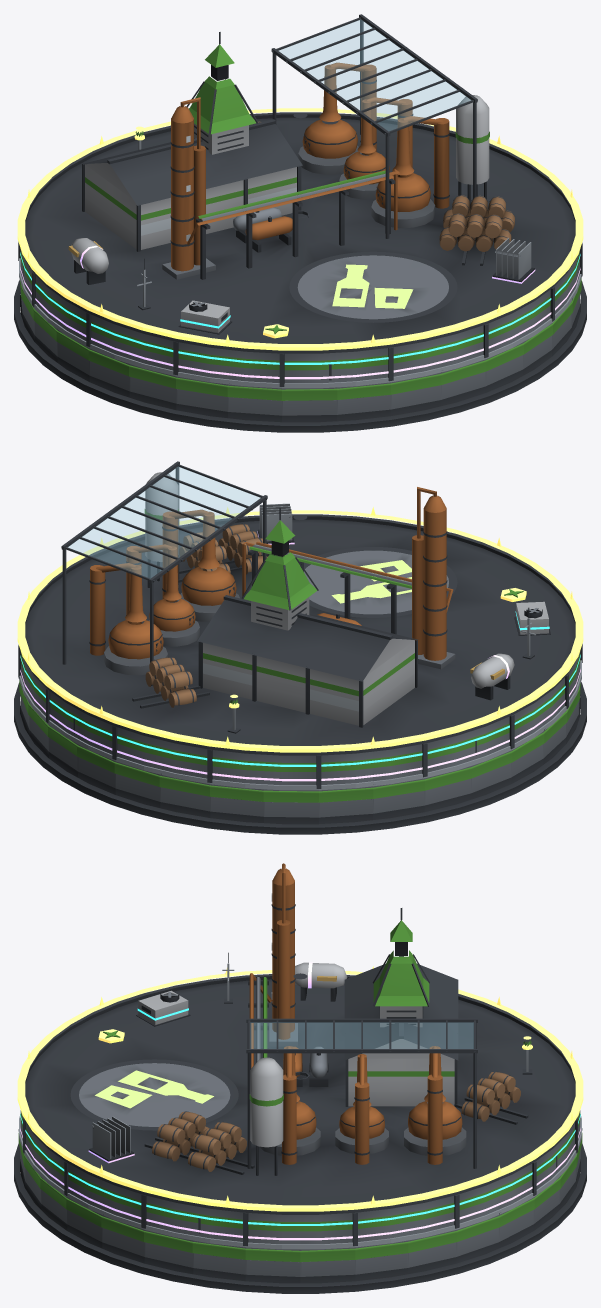
Rendered from distillery_l_far.glb.
3 views of the same model, one above another, from view 1: azimuth 30°, elevation 25°; view 2: azimuth 150°, elevation 25°; view 3: azimuth 270°, elevation 25° (orthographic).
Parts seen in each view (by area): view 1: Roof, Base, L5, L4, L2, L3; view 2: Roof, Base, L5, L4, L2, L3; view 3: Roof, Base, L5, L4, L2, L3.
Boxes of the visible parts, x1,y1,x2,y2 form: Roof: (18, 14, 582, 386); Base: (14, 278, 586, 432); L5: (17, 108, 583, 350); L4: (20, 238, 580, 379); L2: (19, 258, 581, 388); L3: (20, 210, 580, 364); Roof: (18, 461, 582, 788); Base: (14, 680, 586, 834); L5: (17, 507, 583, 752); L4: (20, 503, 580, 781); L2: (19, 607, 581, 790); L3: (20, 601, 580, 766); Roof: (20, 863, 580, 1246); Base: (14, 1128, 586, 1293); L5: (17, 966, 583, 1211); L4: (20, 962, 580, 1240); L2: (19, 952, 581, 1249); L3: (20, 990, 580, 1225).
Size of the model in its own units: 18.96 by 9.14 by 18.96.
